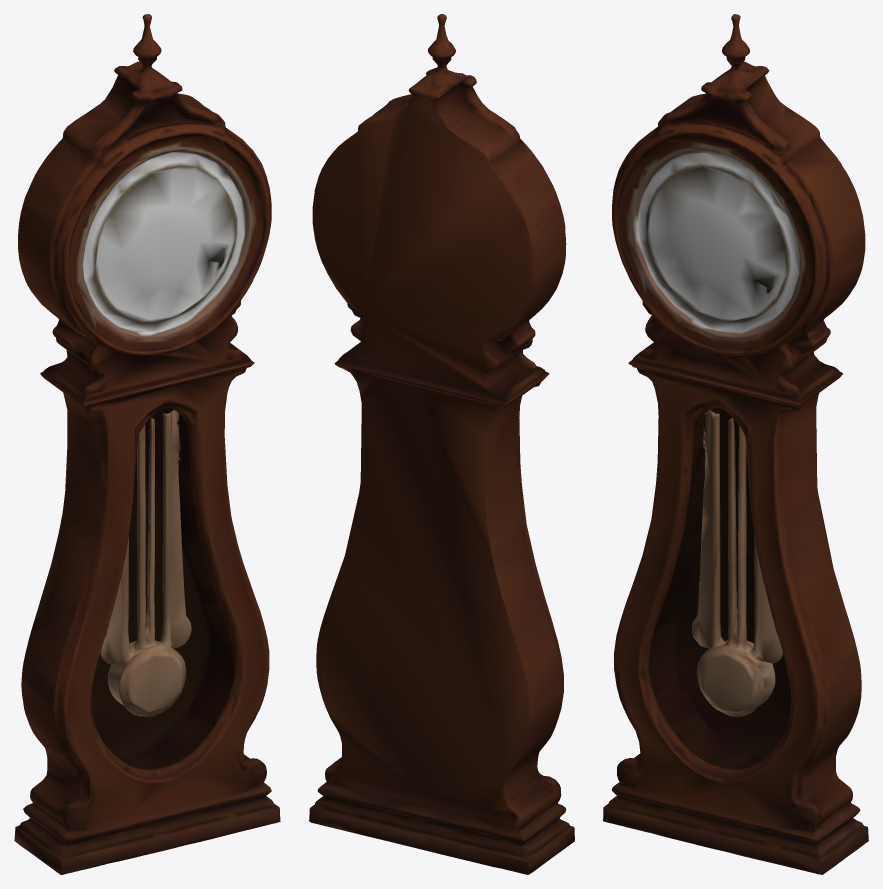
The model's file is mantel_clock.glb.
3 renders of one model, left to right at view 1: azimuth 30°, elevation 25°; view 2: azimuth 150°, elevation 25°; view 3: azimuth 330°, elevation 25°, orthographic.
Bounding box in the file's own units: 0.2833 × 0.9954 × 0.1047.
